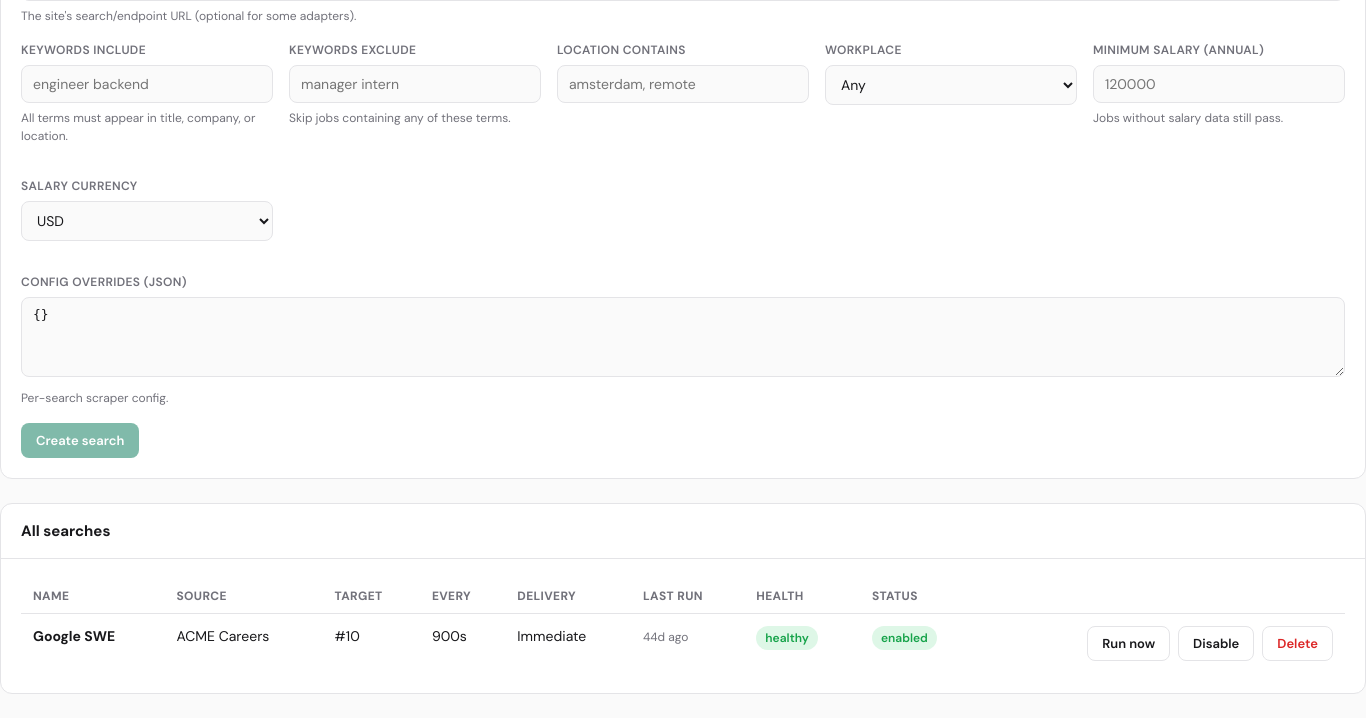
Test: SearchesPage › shows a run-failed error banner when the run reports an error
The width and height of the screenshot is (1366, 718).
(page scrolled)
Expected: the text "Google SWE" is shown, [33,627,115,645]
What coordinates should you click on to do the following:
click the button "Run now"
I would click on:
 (1129, 644)
Its box is [1087,626,1170,661].
(page scrolled)
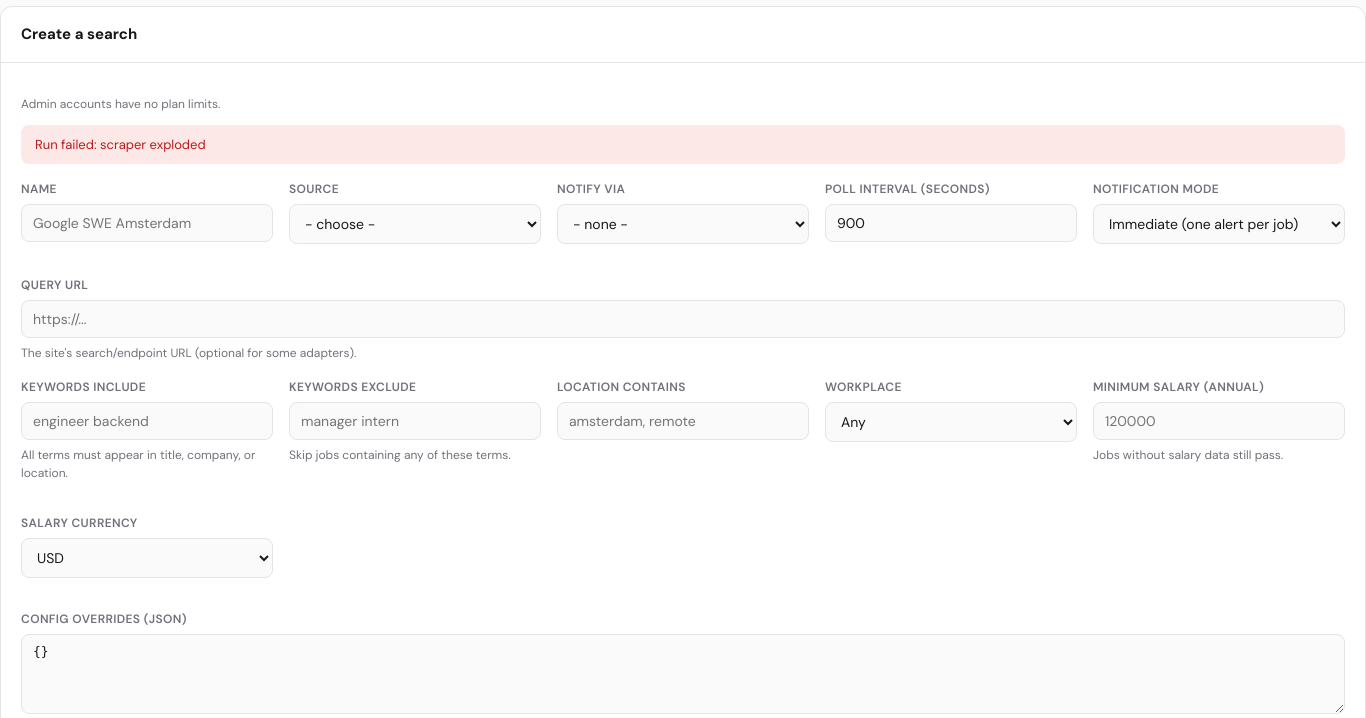
Result: the text "Run failed: scraper exploded" is shown at [21,124,1345,164]
